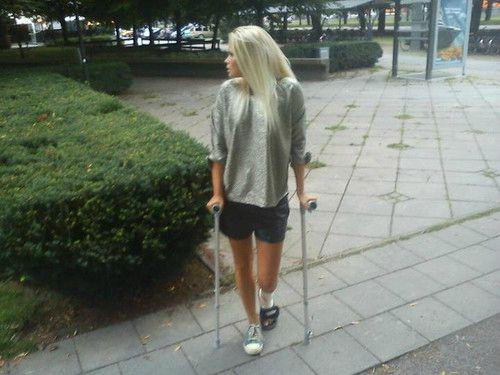crutches: (206, 25, 318, 355)
